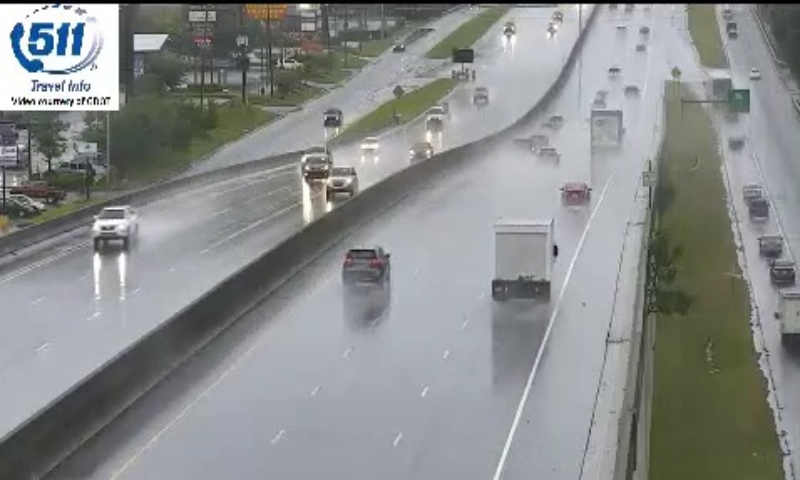car: (343, 247, 389, 281), (561, 182, 591, 205)
small-truck: (492, 219, 552, 297), (590, 110, 622, 156)
